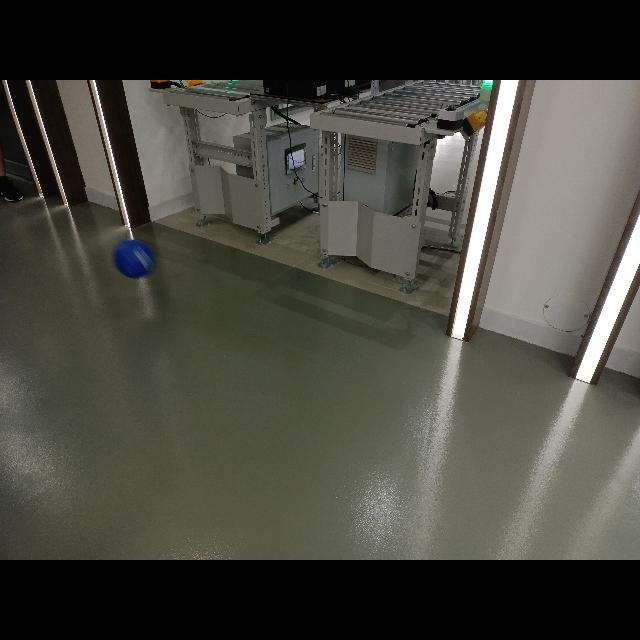B: (112, 239, 156, 279)
